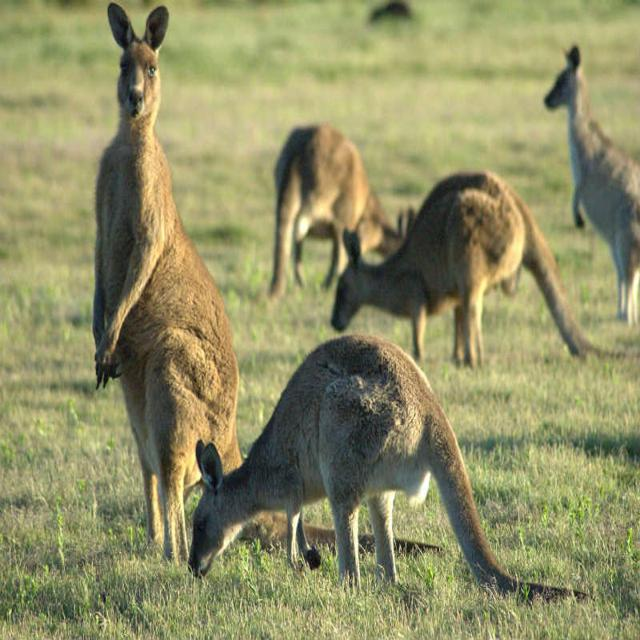kangaroo: (92, 2, 243, 539), (186, 336, 443, 604), (541, 44, 640, 304), (334, 229, 456, 330)
